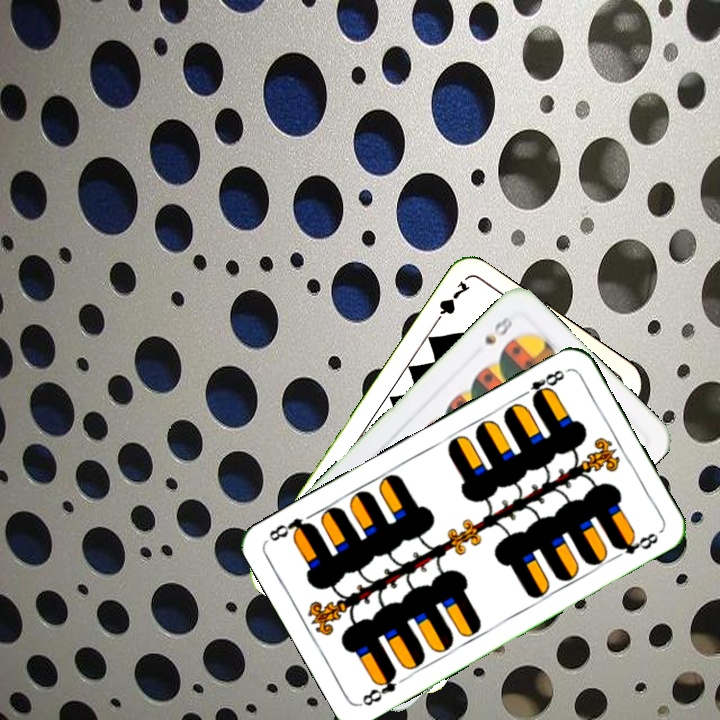E8: (515, 365, 567, 404), (357, 666, 400, 709)
G7: (429, 277, 473, 329)
S8: (480, 312, 515, 347)
